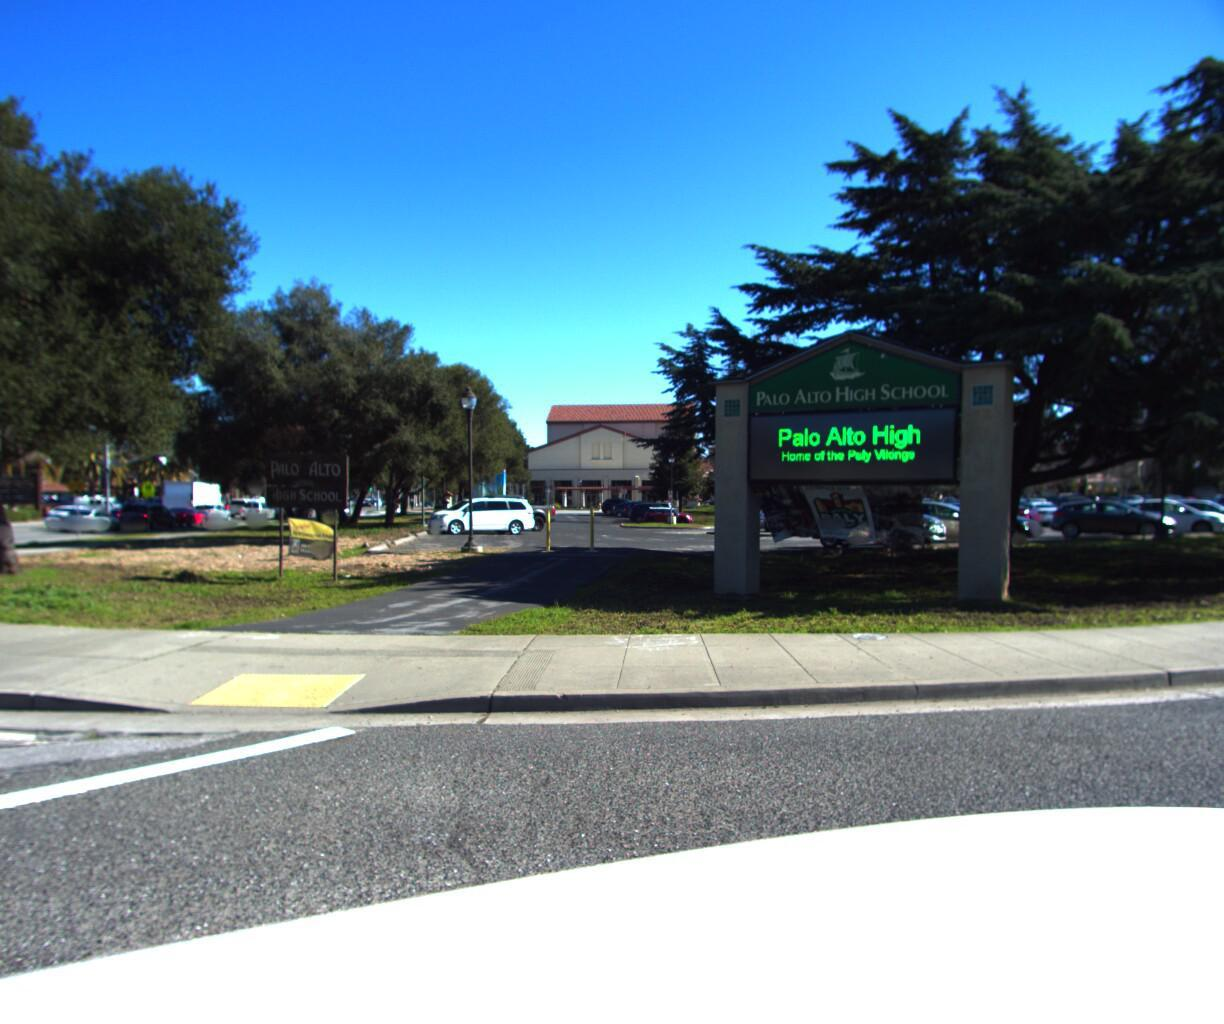car: (417, 495, 536, 534), (52, 508, 130, 535), (41, 507, 111, 534), (114, 507, 178, 533), (158, 504, 211, 527), (188, 503, 236, 524), (237, 497, 278, 519), (0, 506, 14, 540)
truck: (152, 475, 232, 523)
